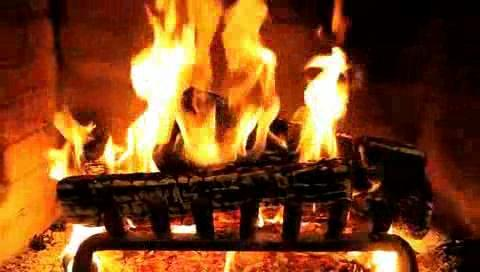fire: (116, 0, 346, 169)
